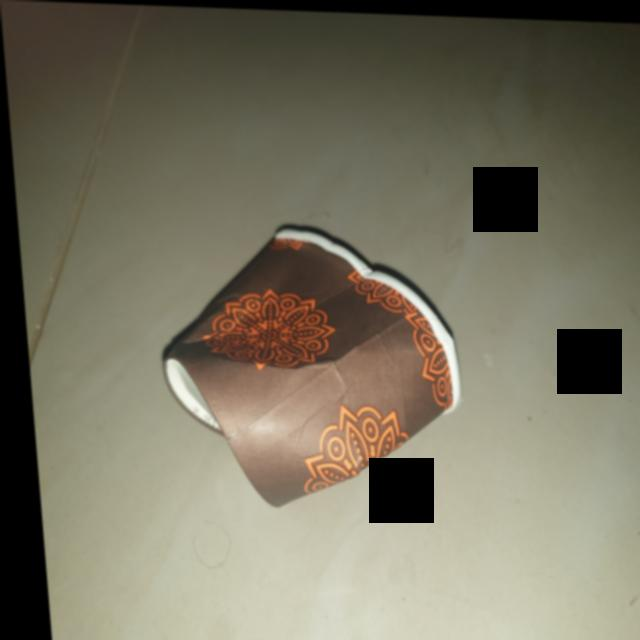cups: (143, 208, 474, 526)
